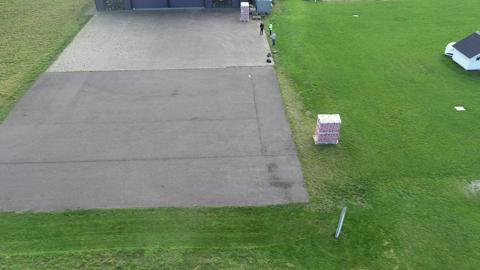RockwoolPallet: (239, 1, 250, 22)
